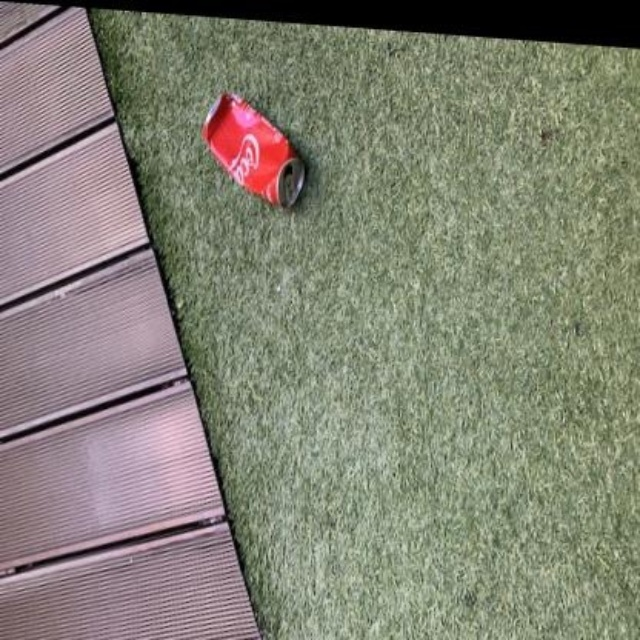trash: (202, 92, 303, 206)
